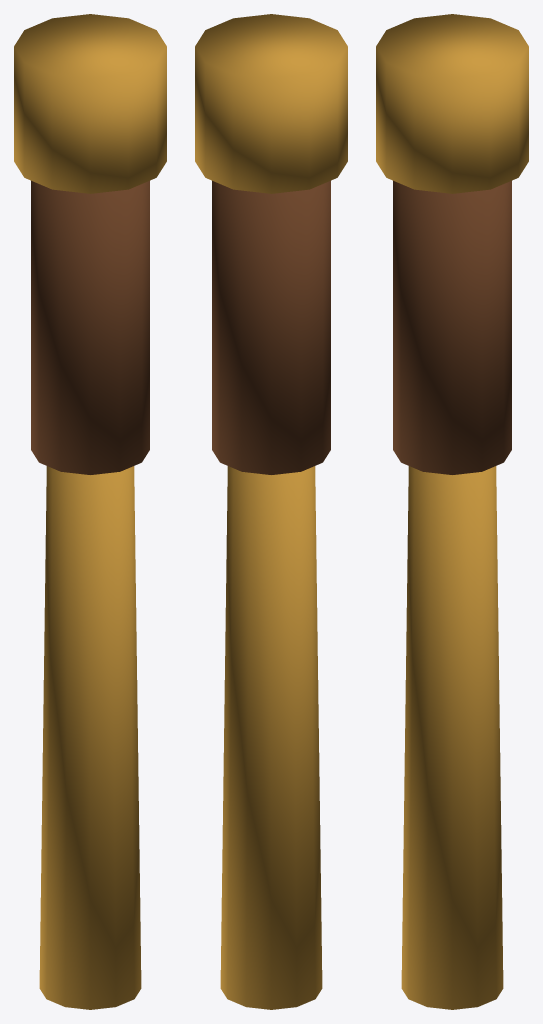
Rendered from telescope.glb.
3 views of the same model, side by side, from view 1: azimuth 30°, elevation 25°; view 2: azimuth 150°, elevation 25°; view 3: azimuth 270°, elevation 25° (orthographic).
Visible parts, largest first — view 1: telescope; view 2: telescope; view 3: telescope.
Part boxes in pixels (x1,y1,x2,y2): telescope: [14, 14, 166, 1009]; telescope: [195, 14, 347, 1009]; telescope: [376, 14, 528, 1009].
Bounding box in the file's own units: 0.18 × 1.23 × 0.18.
